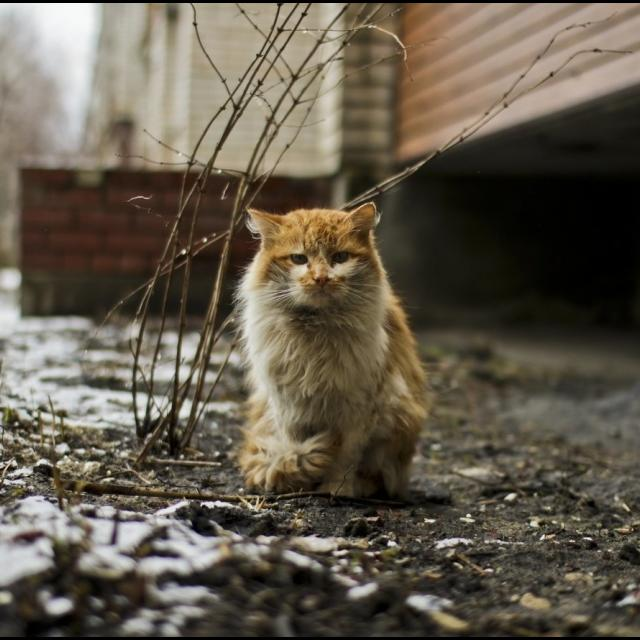animals: (237, 201, 428, 499)
